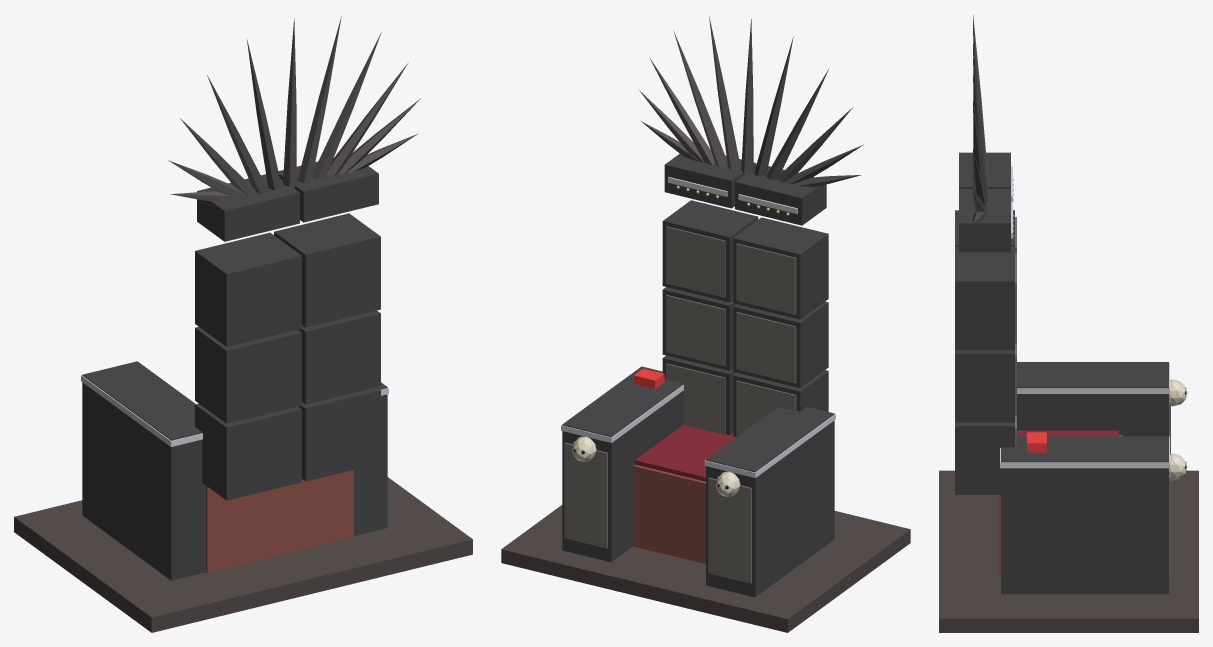
File: RockThrone.obj
The picture shows the model from 3 angles, left to right: view 1: azimuth 30°, elevation 25°; view 2: azimuth 150°, elevation 25°; view 3: azimuth 270°, elevation 25°; orthographic projection. The views are drawn at different scales.
Parts seen in each view (by area): view 1: RockThrone; view 2: RockThrone; view 3: RockThrone.
Boxes of the visible parts, box(x1,y1,x2,y2) form: RockThrone: box(14, 16, 472, 632); RockThrone: box(501, 16, 910, 632); RockThrone: box(939, 15, 1198, 632).
Bounding box in the file's own units: 1.75 × 2.94 × 1.3.
Materials: 1 (1 with a texture image).
